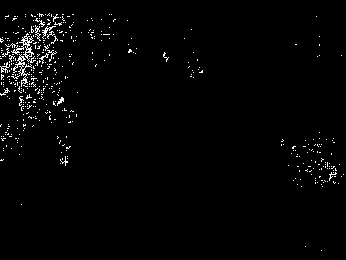person: (50, 96, 82, 171)
